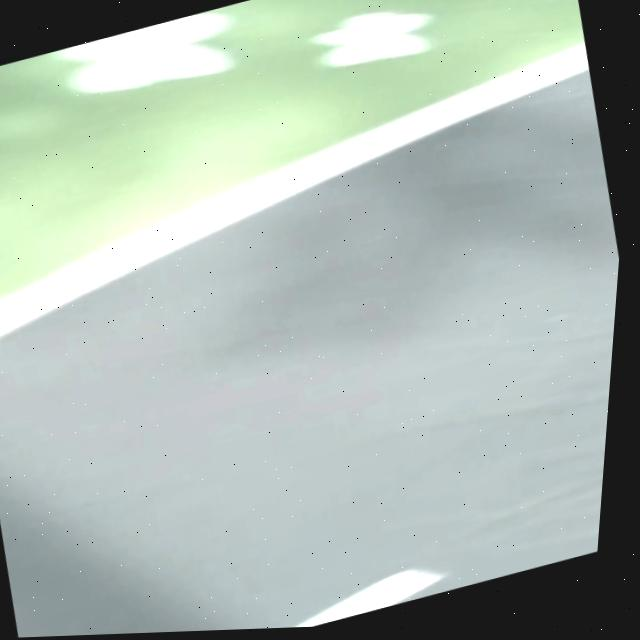center: (295, 569, 444, 627)
right: (0, 43, 589, 335)
